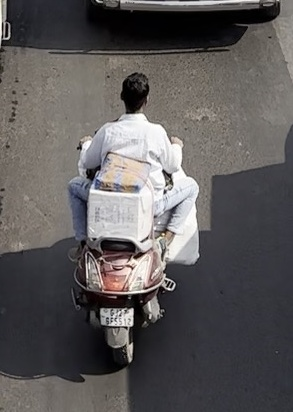BikeWithRider: (59, 66, 205, 371)
NoHelmet: (112, 67, 155, 120)
